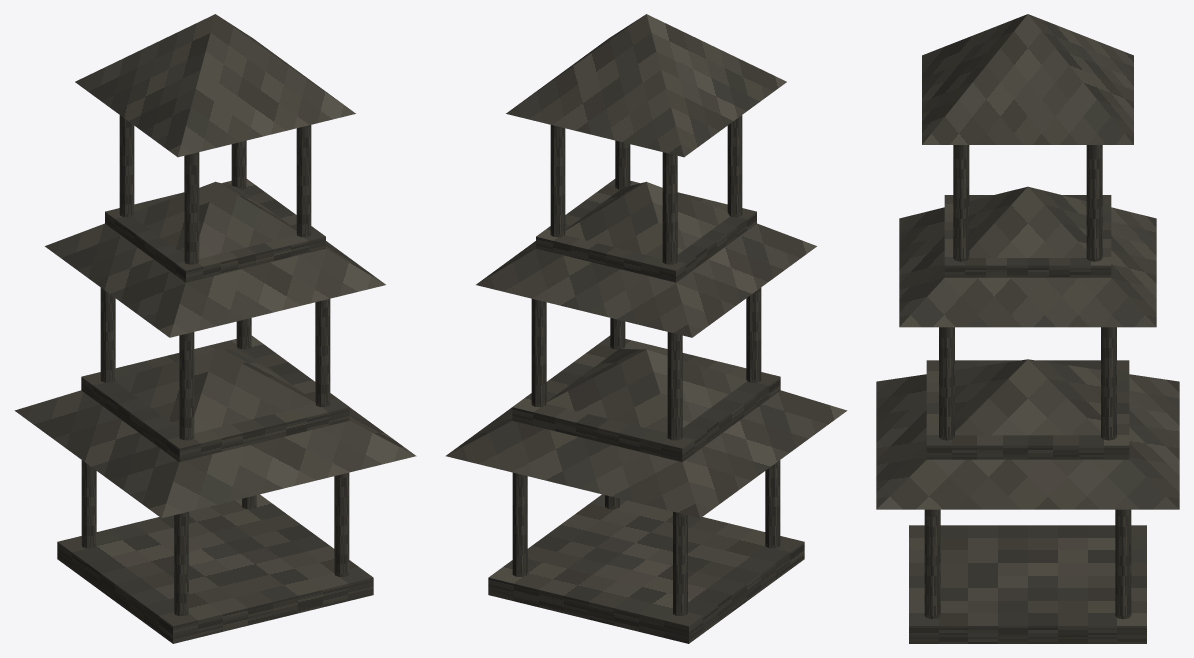
The model's file is pagoda_62.glb.
3 renders of one model, left to right at view 1: azimuth 30°, elevation 25°; view 2: azimuth 150°, elevation 25°; view 3: azimuth 270°, elevation 25°, orthographic. The views are drawn at different scales.
Parts seen in each view (by area): view 1: Roof, Floor, Roof.001, Roof.002, Floor.001, Floor.002, Column.008, Column.010, Column.004, Column.006, Column.002, Column.009 (+4 smaller); view 2: Roof, Floor, Roof.001, Roof.002, Floor.001, Floor.002, Column.009, Column.011, Column.005, Column.007, Column.003, Column.008 (+4 smaller); view 3: Roof, Roof.001, Floor, Roof.002, Floor.001, Floor.002, Column.010, Column.011, Column.002, Column.003, Column.006, Column.007.
Part boxes in pixels (x1,y1,x2,y2): Roof: (14, 349, 416, 518); Floor: (57, 494, 373, 643); Roof.001: (45, 181, 385, 337); Roof.002: (75, 14, 355, 157); Floor.001: (81, 335, 349, 462); Floor.002: (105, 179, 325, 282); Column.008: (184, 152, 199, 264); Column.010: (296, 125, 311, 237); Column.004: (179, 332, 194, 440); Column.006: (315, 299, 330, 407); Column.002: (334, 472, 349, 576); Column.009: (119, 115, 134, 217); Roof: (445, 349, 847, 518); Floor: (488, 494, 804, 643); Roof.001: (476, 181, 816, 337); Roof.002: (506, 14, 786, 157); Floor.001: (512, 335, 780, 462); Floor.002: (536, 179, 756, 282); Column.009: (662, 152, 677, 264); Column.011: (550, 125, 565, 237); Column.005: (667, 332, 682, 440); Column.007: (531, 299, 546, 407); Column.003: (512, 472, 527, 576); Column.008: (727, 115, 742, 217); Roof: (876, 359, 1179, 509); Roof.001: (899, 186, 1156, 327); Floor: (909, 525, 1146, 643); Roof.002: (922, 14, 1133, 144); Floor.001: (926, 360, 1129, 459); Floor.002: (944, 195, 1111, 277); Column.010: (953, 145, 969, 261); Column.011: (1086, 145, 1102, 261); Column.002: (924, 509, 940, 619); Column.003: (1115, 509, 1131, 619); Column.006: (939, 327, 954, 440); Column.007: (1101, 327, 1116, 440).
Size of the model in its own units: 4.56 by 9.62 by 4.56.
Materials: 1 (1 with a texture image).
